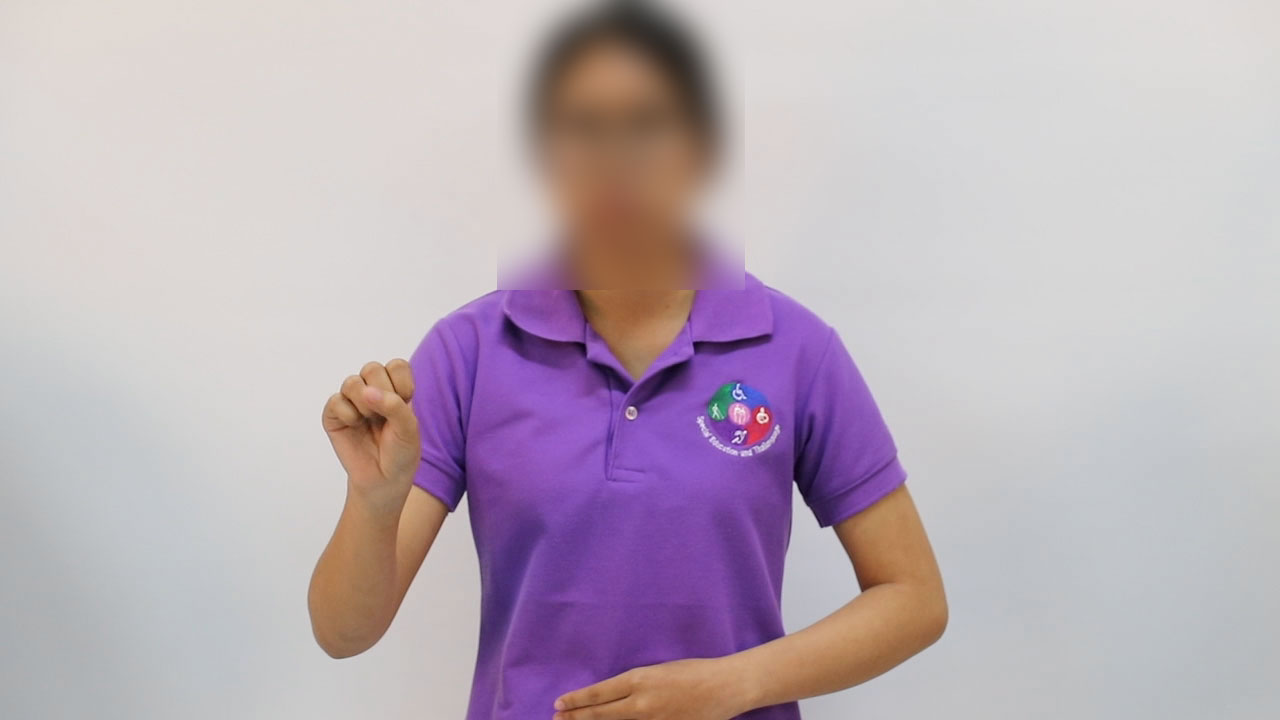sor: (294, 342, 450, 516)
